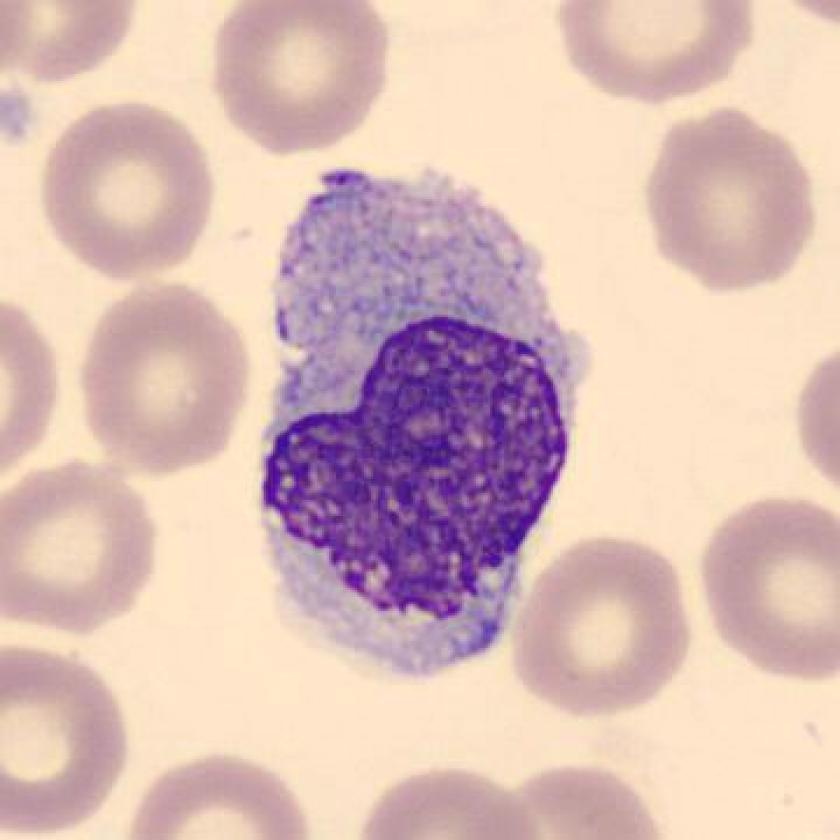monocyte: (232, 154, 617, 695)
